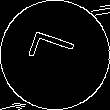L_E: (26, 32, 84, 78)
